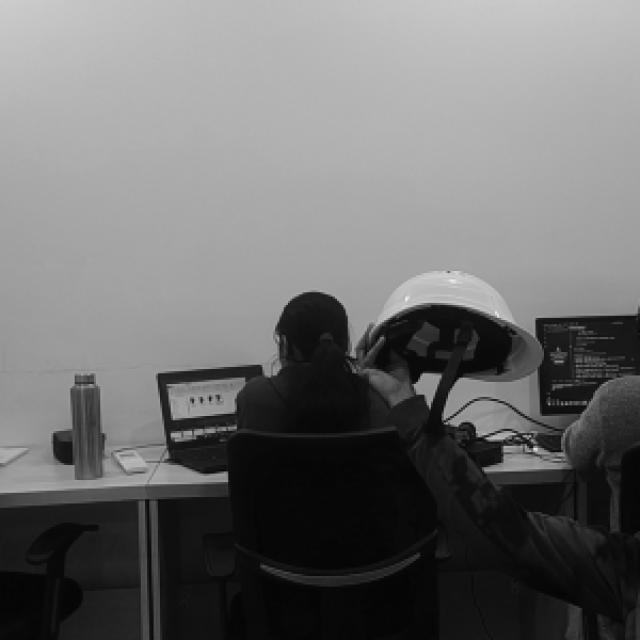safety_helmet: (367, 272, 542, 381)
